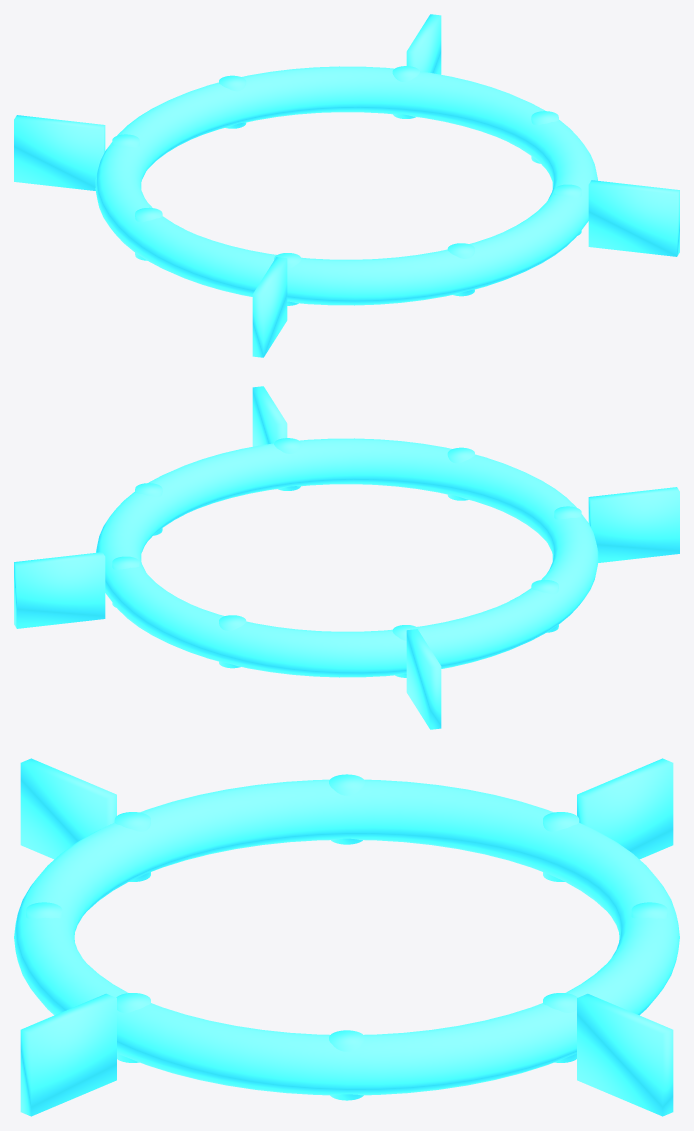
File: space_ring_station_small.glb
The picture shows the model from 3 angles, top to bottom: view 1: azimuth 30°, elevation 25°; view 2: azimuth 150°, elevation 25°; view 3: azimuth 270°, elevation 25°; orthographic projection. The views are drawn at different scales.
Parts seen in each view (by area): view 1: SpaceRingStation_small; view 2: SpaceRingStation_small; view 3: SpaceRingStation_small.
Boxes of the visible parts, left/top/right/bottom form: SpaceRingStation_small: left=14, top=14, right=679, bottom=357; SpaceRingStation_small: left=14, top=386, right=679, bottom=729; SpaceRingStation_small: left=14, top=758, right=679, bottom=1116.
Bounding box in the file's own units: 396 × 54 × 396.
